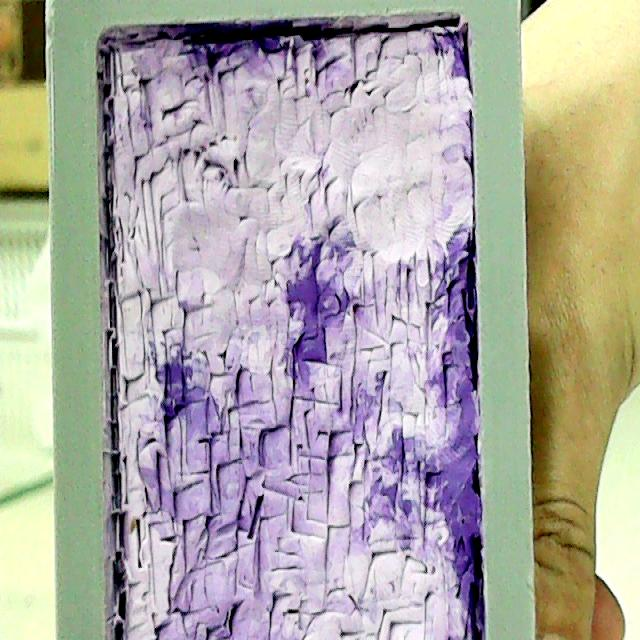block: (38, 6, 536, 631)
